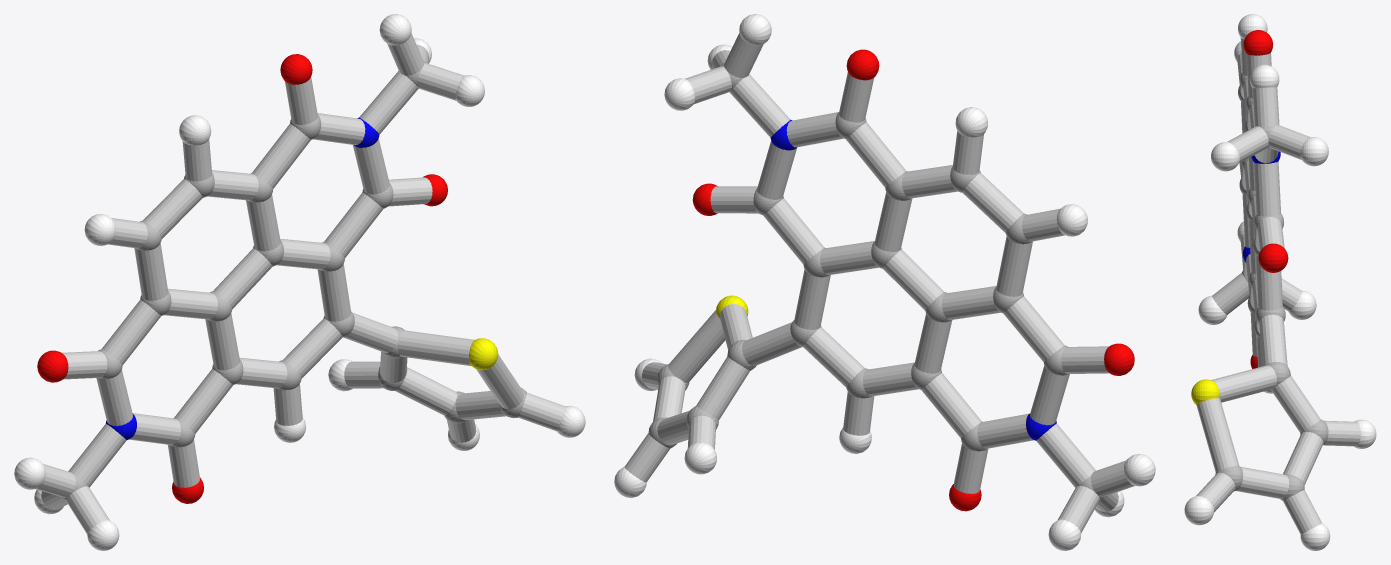
File: Dimethyl_Naphthalene_Dicarboximide_Phi_15_Theta_240_Thiophene.glb
The picture shows the model from 3 angles, left to right: view 1: azimuth 30°, elevation 25°; view 2: azimuth 150°, elevation 25°; view 3: azimuth 270°, elevation 25°; orthographic projection. The views are drawn at different scales.
Visible parts, largest first — view 1: grp14119, grp7241, grp1, grp12309, grp13757; view 2: grp14119, grp7241, grp1, grp12309, grp11585; view 3: grp14119, grp7241, grp1, grp12309, grp13757.
Part boxes in pixels (x1,y1,x2,y2): grp14119: (35,33,565,533); grp7241: (14,14,585,550); grp1: (61,60,526,500); grp12309: (37,54,447,503); grp13757: (469,338,498,370); grp14119: (624,33,1134,532); grp7241: (614,14,1155,550); grp1: (648,63,1104,500); grp12309: (692,49,1134,511); grp11585: (770,119,1056,440); grp14119: (1196,37,1361,534); grp7241: (1184,14,1376,550); grp1: (1215,73,1328,500); grp12309: (1243,30,1288,368); grp13757: (1191,379,1219,404).
Size of the model in its own units: 11.58 by 9.82 by 3.88.
